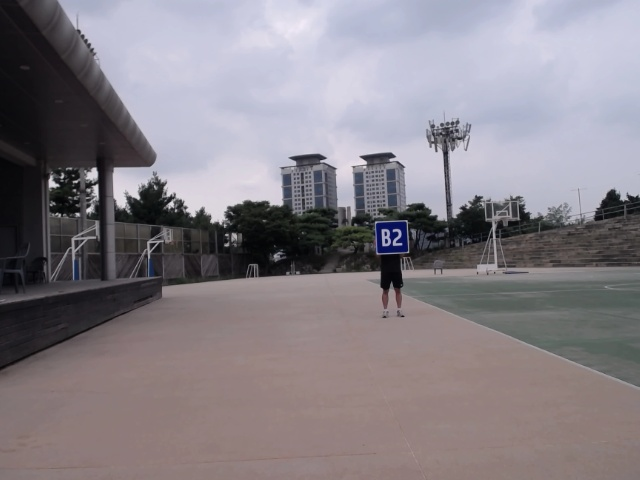delivery_b2: (373, 220, 411, 256)
